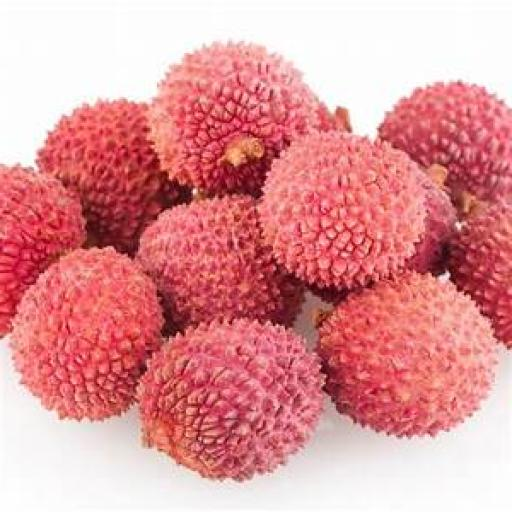lychee: (138, 320, 321, 479), (319, 274, 495, 436), (148, 43, 328, 194), (257, 130, 425, 288), (10, 248, 162, 419), (37, 99, 183, 252), (136, 195, 302, 329), (378, 82, 511, 199), (0, 166, 84, 334), (448, 204, 511, 348), (406, 166, 456, 274)
